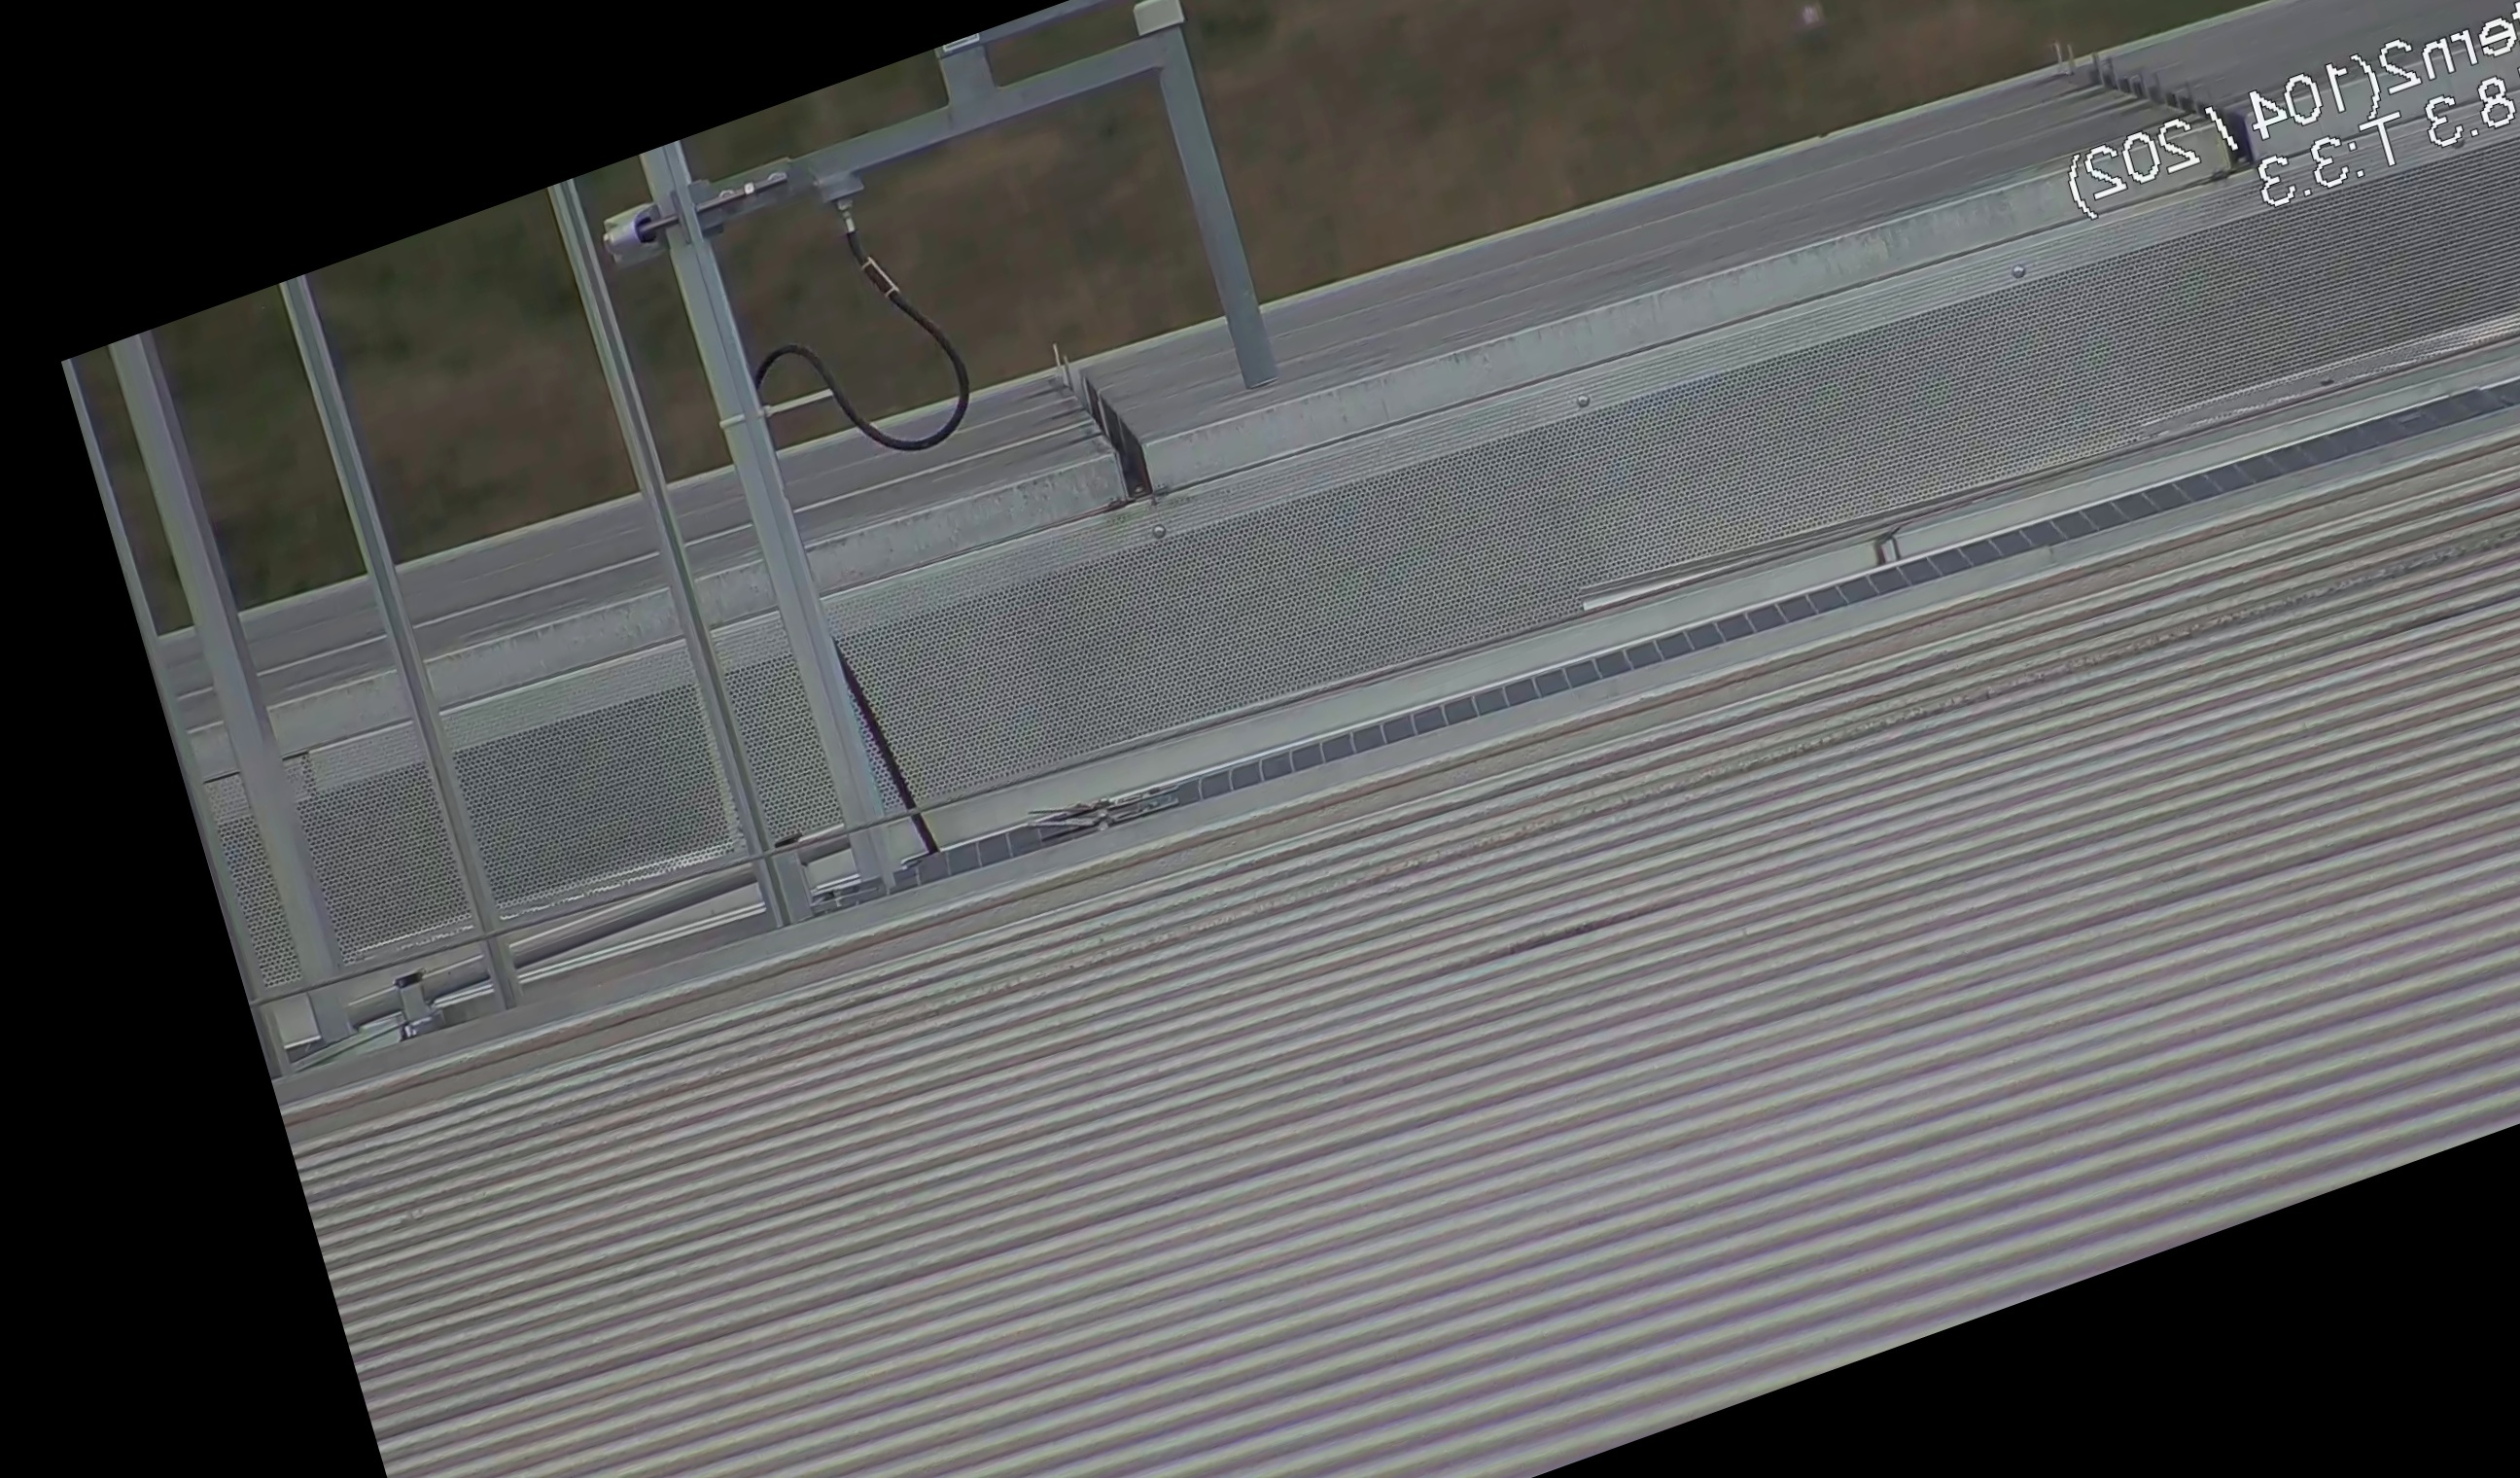Other: (0, 651, 100, 853)
